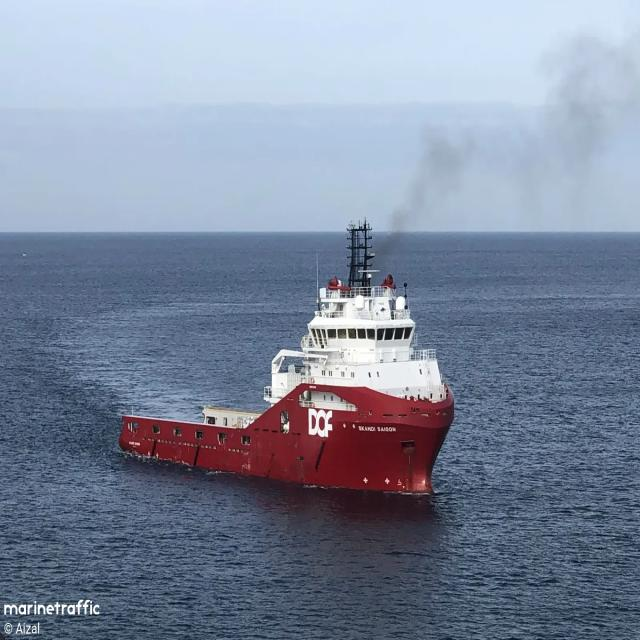Offshore: (120, 223, 454, 495)
